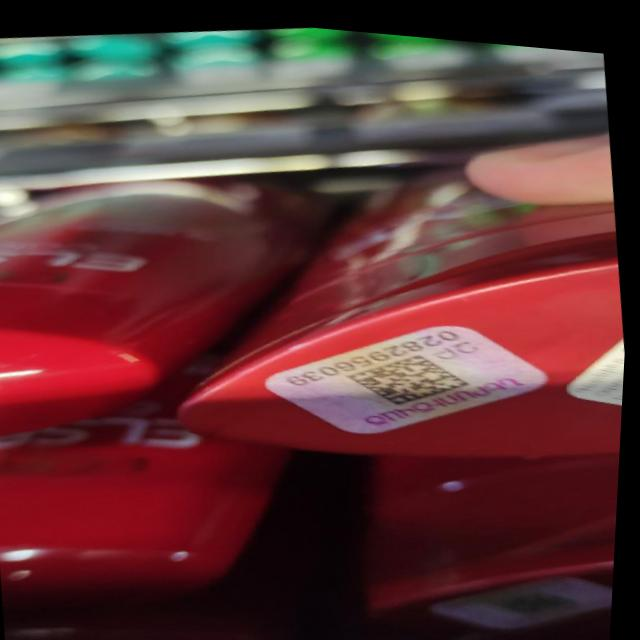datamatrix: (343, 334, 477, 410)
